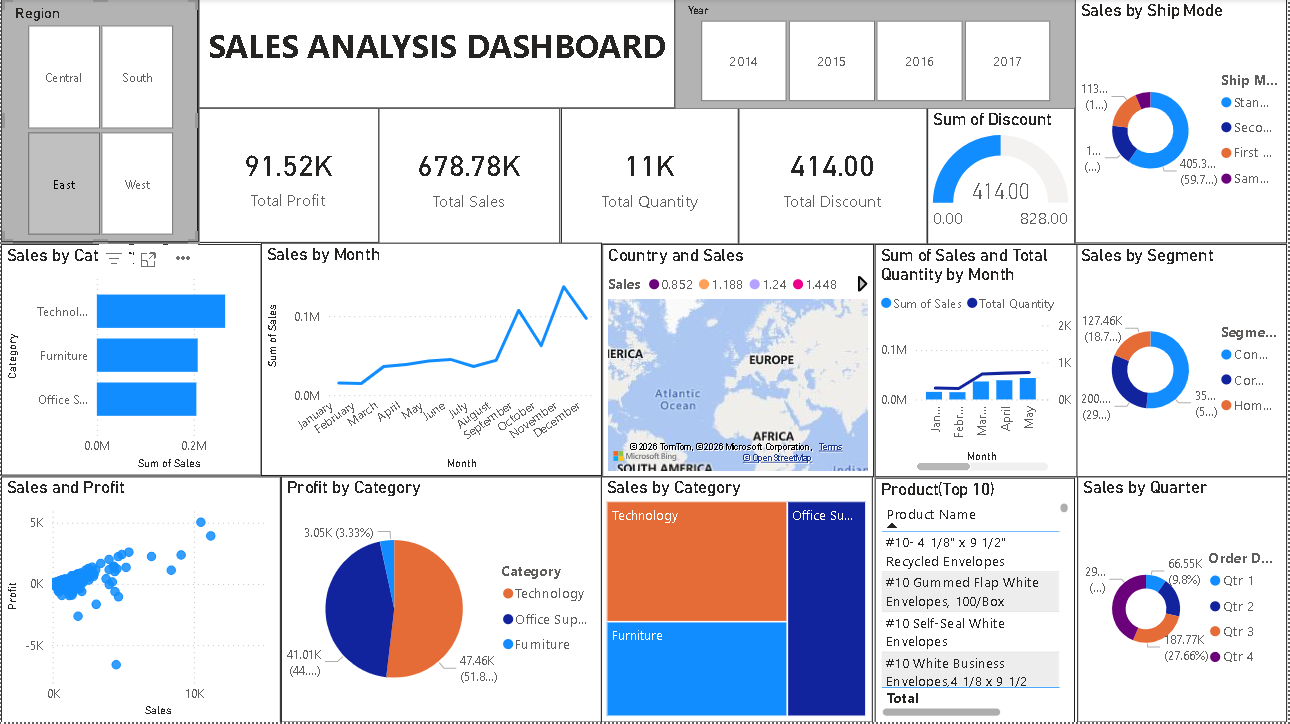

What the dashboard file says about the page in this screenshot:
{"tool":"powerbi","page":{"name":"Page 1","canvas":[1280,720],"ordinal":0},"visuals":[{"type":"card","fields":{"Values":["sample_-_superstore xls - Orders.Total Profit"]},"box":[196.2,108.4,179.8,134.5],"z":0},{"type":"card","fields":{"Values":["sample_-_superstore xls - Orders.Total Sales"]},"box":[376,108.4,181.1,135.8],"z":1000},{"type":"card","fields":{"Values":["sample_-_superstore xls - Orders.Total Quantity"]},"box":[557.1,108.4,177,135.8],"z":2000},{"type":"card","fields":{"Values":["sample_-_superstore xls - Orders.Total Discount"]},"box":[734.1,108.4,188,135.8],"z":3000},{"type":"barChart","title":"Sales by Category ","fields":{"Y":["Sum(sample_-_superstore xls - Orders.Sales)"],"Category":["sample_-_superstore xls - Orders.Category"]},"box":[0,244.3,259.3,230.5],"z":4000},{"type":"lineChart","title":"Sales by Month","fields":{"Y":["Sum(sample_-_superstore xls - Orders.Sales)"],"Category":["sample_-_superstore xls - Orders.Order Date.Variation.Date Hierarchy.Month"]},"box":[259.3,242.9,338.9,231.9],"z":5000},{"type":"map","fields":{"Series":["sample_-_superstore xls - Orders.Sales"],"Category":["sample_-_superstore xls - Orders.Country"]},"box":[598.3,244.3,270.3,231.9],"z":6000},{"type":"scatterChart","fields":{"X":["sample_-_superstore xls - Orders.Sales"],"Y":["sample_-_superstore xls - Orders.Profit"]},"box":[0,474.8,278.6,245.6],"z":7000},{"type":"pieChart","title":"Profit by Category","fields":{"Category":["sample_-_superstore xls - Orders.Category"],"Y":["Sum(sample_-_superstore xls - Orders.Profit)"]},"box":[279,475,319,245],"z":8000},{"type":"treemap","title":"Sales by Category","fields":{"Group":["sample_-_superstore xls - Orders.Category"],"Values":["Sum(sample_-_superstore xls - Orders.Sales)"]},"box":[597.5,475,270,245],"z":9000},{"type":"gauge","fields":{"Y":["Sum(sample_-_superstore xls - Orders.Discount)"]},"box":[922.1,108.4,146.8,135.8],"z":10000},{"type":"slicer","fields":{"Values":["sample_-_superstore xls - Orders.Order Date.Variation.Date Hierarchy.Year"]},"box":[671,0,397.9,108.4],"z":10001},{"type":"donutChart","title":"Sales by Ship Mode","fields":{"Y":["Sum(sample_-_superstore xls - Orders.Sales)"],"Category":["sample_-_superstore xls - Orders.Ship Mode"]},"box":[1069,0,211.3,242.9],"z":10002},{"type":"donutChart","title":"Sales by Segment","fields":{"Y":["Sum(sample_-_superstore xls - Orders.Sales)"],"Category":["sample_-_superstore xls - Orders.Segment"]},"box":[1069,244.3,211.3,231.9],"z":10003},{"type":"donutChart","title":"Sales by Quarter","fields":{"Y":["Sum(sample_-_superstore xls - Orders.Sales)"],"Category":["sample_-_superstore xls - Orders.Order Date.Variation.Date Hierarchy.Quarter"]},"box":[1071.2,475,208.8,245],"z":10004},{"type":"slicer","fields":{"Values":["sample_-_superstore xls - Orders.Region"]},"box":[0,0,196.2,242.9],"z":10005},{"type":"textbox","box":[196.2,0,474.8,108.4],"z":10006},{"type":"lineStackedColumnComboChart","fields":{"Y":["Sum(sample_-_superstore xls - Orders.Sales)"],"Category":["sample_-_superstore xls - Orders.Order Date.Variation.Date Hierarchy.Month"],"Y2":["sample_-_superstore xls - Orders.Total Quantity"]},"box":[870,244.3,201.7,231.9],"z":10007},{"type":"tableEx","title":"Product(Top 10)","fields":{"Values":["sample_-_superstore xls - Orders.Product Name","sample_-_superstore xls - Orders.Total Sales"]},"box":[870,476,199,244],"z":10008}]}

Visuals, with their boxes in screenshot pixels (x1, y1, x2, y2), scaled from the page's 1280x720 canvas onto the 1290x724 screenshot:
card - sample_-_superstore xls - Orders.Total Profit: [x1=198, y1=109, x2=379, y2=244]
card - sample_-_superstore xls - Orders.Total Sales: [x1=379, y1=109, x2=561, y2=246]
card - sample_-_superstore xls - Orders.Total Quantity: [x1=561, y1=109, x2=740, y2=246]
card - sample_-_superstore xls - Orders.Total Discount: [x1=740, y1=109, x2=929, y2=246]
"Sales by Category " barChart: [x1=0, y1=246, x2=261, y2=477]
"Sales by Month" lineChart: [x1=261, y1=244, x2=603, y2=477]
map - sample_-_superstore xls - Orders.Sales x sample_-_superstore xls - Orders.Country: [x1=603, y1=246, x2=875, y2=479]
scatterChart - sample_-_superstore xls - Orders.Sales x sample_-_superstore xls - Orders.Profit: [x1=0, y1=477, x2=281, y2=723]
"Profit by Category" pieChart: [x1=281, y1=478, x2=603, y2=723]
"Sales by Category" treemap: [x1=602, y1=478, x2=874, y2=723]
gauge - Sum(sample_-_superstore xls - Orders.Discount): [x1=929, y1=109, x2=1077, y2=246]
slicer - sample_-_superstore xls - Orders.Order Date.Variation.Date Hierarchy.Year: [x1=676, y1=0, x2=1077, y2=109]
"Sales by Ship Mode" donutChart: [x1=1077, y1=0, x2=1289, y2=244]
"Sales by Segment" donutChart: [x1=1077, y1=246, x2=1289, y2=479]
"Sales by Quarter" donutChart: [x1=1080, y1=478, x2=1289, y2=723]
slicer - sample_-_superstore xls - Orders.Region: [x1=0, y1=0, x2=198, y2=244]
textbox: [x1=198, y1=0, x2=676, y2=109]
lineStackedColumnComboChart - Sum(sample_-_superstore xls - Orders.Sales) x sample_-_superstore xls - Orders.Order Date.Variation.Date Hierarchy.Month: [x1=877, y1=246, x2=1080, y2=479]
"Product(Top 10)" tableEx: [x1=877, y1=479, x2=1077, y2=723]
